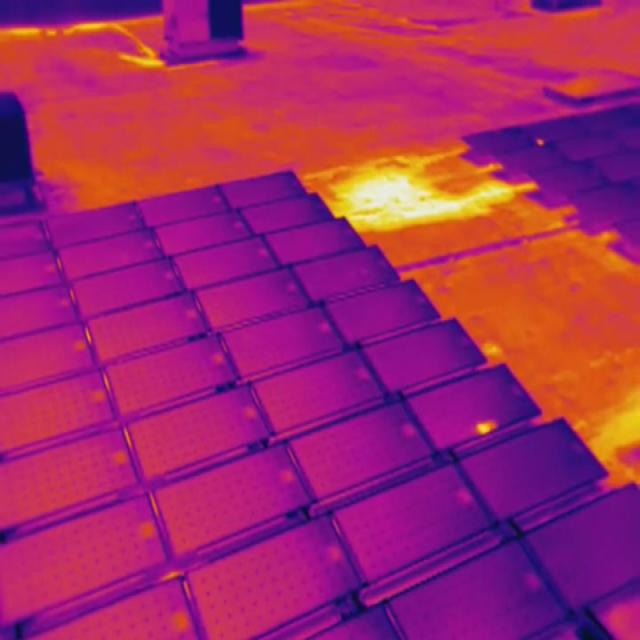Orange-Spots: (475, 418, 498, 434), (536, 138, 544, 146)
